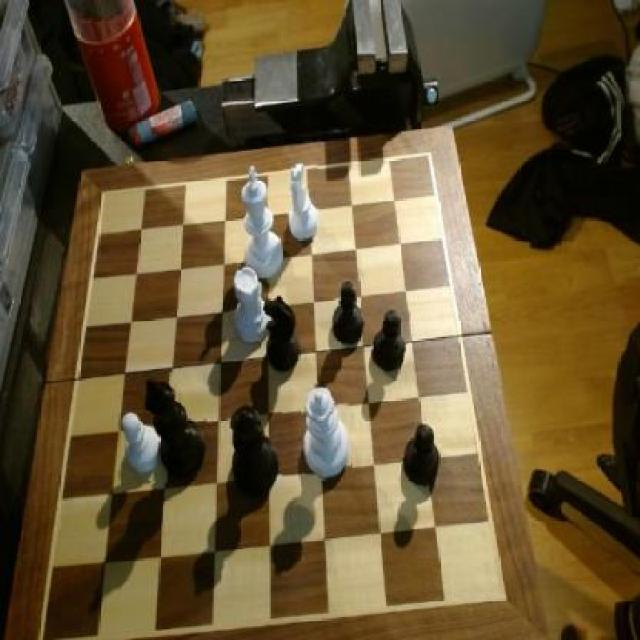black-bishop: (142, 370, 209, 482)
black-king: (264, 294, 304, 376)
black-knight: (402, 423, 442, 493), (371, 309, 408, 377), (334, 280, 368, 347)
black-pawn: (228, 406, 282, 497)
white-bishop: (237, 166, 285, 284)
white-king: (283, 162, 319, 245)
white-knight: (118, 412, 164, 482)
white-pawn: (300, 383, 352, 481)
white-queen: (230, 265, 274, 346)
